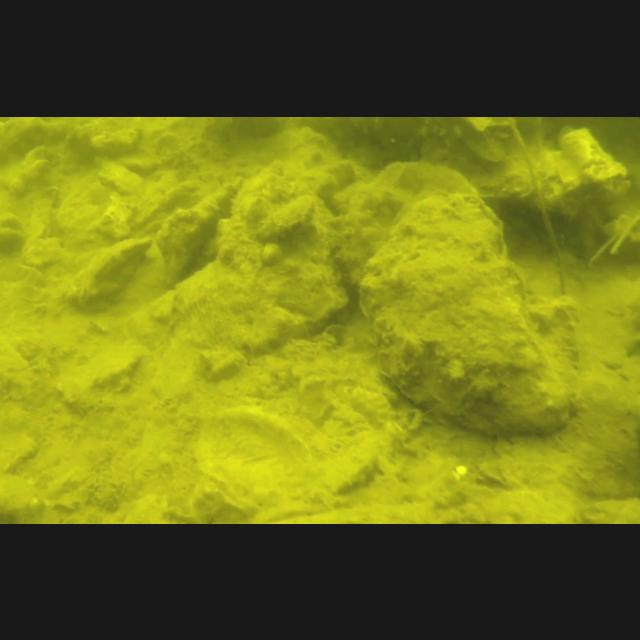Oyster-Closed: (358, 190, 572, 436), (337, 160, 479, 294), (194, 406, 314, 514), (154, 180, 238, 288), (59, 234, 154, 308), (255, 194, 315, 242), (68, 116, 142, 154)
Oyster-Open: (419, 115, 535, 198), (534, 123, 632, 211), (0, 210, 26, 252)
